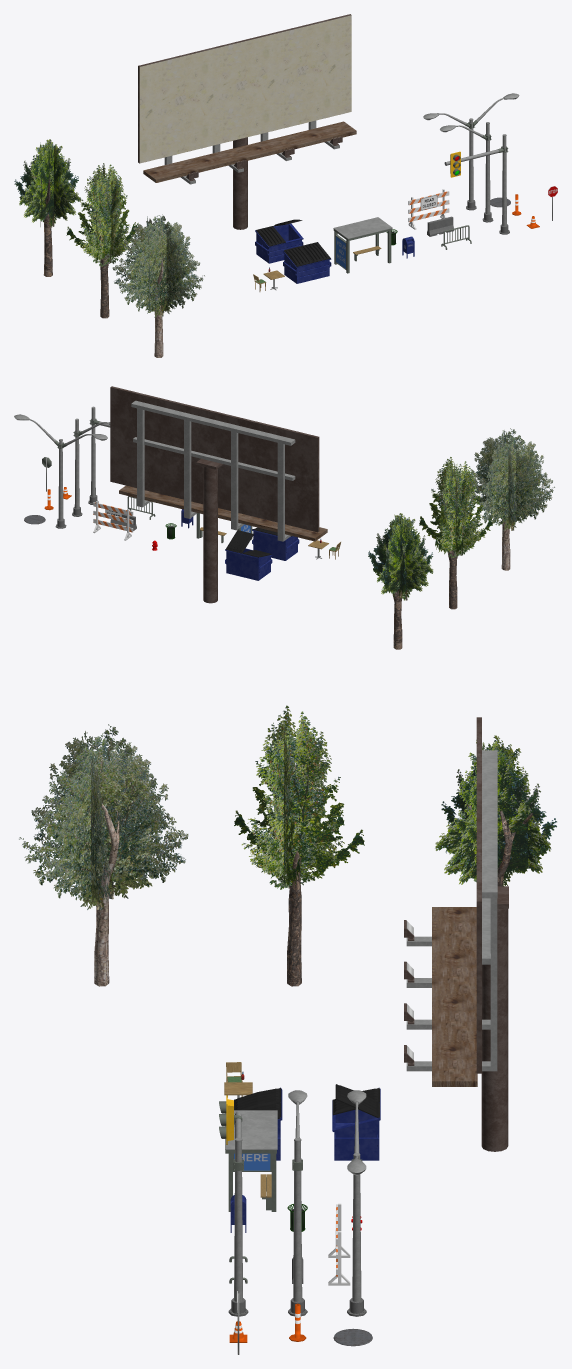
The model's file is LP_Objects_Pack_Objects.fbx.
3 views of the same model, one above another, from view 1: azimuth 30°, elevation 25°; view 2: azimuth 150°, elevation 25°; view 3: azimuth 270°, elevation 25° (orthographic). The views are drawn at different scales.
Parts seen in each view (by area): view 1: BillBoard_A, Tree_C, Tree_B, Tree_A, BusStop_A, Dumpster_A, StopLight_A, Dumpster_A_Openable, StreetLight_A_Double, RoadCloseBarrier_A, StreetLight_A_Single; view 2: BillBoard_A, Tree_C, Tree_B, Tree_A, Dumpster_A_Openable, Dumpster_A, StreetLight_A_Double, RoadCloseBarrier_A, StreetLight_A_Single, StopLight_A, Dumpster_A.Lid_Right; view 3: BillBoard_A, Tree_C, Tree_B, Tree_A, BusStop_A, StopLight_A, Dumpster_A_Openable, StreetLight_A_Double, StreetLight_A_Single, Dumpster_A.
Boxes of the visible parts, x1=… form: BillBoard_A: x1=138, y1=14, x2=356, y2=229; Tree_C: x1=112, y1=214, x2=204, y2=357; Tree_B: x1=66, y1=163, x2=138, y2=318; Tree_A: x1=14, y1=139, x2=80, y2=276; BusStop_A: x1=333, y1=217, x2=392, y2=273; Dumpster_A: x1=283, y1=242, x2=331, y2=283; StopLight_A: x1=444, y1=134, x2=509, y2=234; Dumpster_A_Openable: x1=255, y1=223, x2=303, y2=263; StreetLight_A_Double: x1=423, y1=93, x2=519, y2=210; RoadCloseBarrier_A: x1=408, y1=189, x2=449, y2=229; StreetLight_A_Single: x1=440, y1=122, x2=493, y2=222; BillBoard_A: x1=110, y1=386, x2=327, y2=603; Tree_C: x1=469, y1=428, x2=554, y2=570; Tree_B: x1=419, y1=457, x2=492, y2=609; Tree_A: x1=368, y1=513, x2=433, y2=649; Dumpster_A_Openable: x1=225, y1=548, x2=272, y2=580; Dumpster_A: x1=252, y1=527, x2=299, y2=560; StreetLight_A_Double: x1=14, y1=414, x2=107, y2=528; RoadCloseBarrier_A: x1=93, y1=501, x2=133, y2=540; StreetLight_A_Single: x1=72, y1=418, x2=110, y2=516; StopLight_A: x1=88, y1=406, x2=110, y2=504; Dumpster_A.Lid_Right: x1=225, y1=530, x2=253, y2=553; BillBoard_A: x1=404, y1=717, x2=508, y2=1151; Tree_C: x1=19, y1=724, x2=188, y2=986; Tree_B: x1=234, y1=705, x2=364, y2=986; Tree_A: x1=435, y1=735, x2=556, y2=886; BusStop_A: x1=225, y1=1110, x2=277, y2=1211; StopLight_A: x1=219, y1=1095, x2=248, y2=1316; Dumpster_A_Openable: x1=332, y1=1087, x2=380, y2=1160; StreetLight_A_Double: x1=347, y1=1090, x2=366, y2=1316; StreetLight_A_Single: x1=288, y1=1090, x2=307, y2=1316; Dumpster_A: x1=234, y1=1087, x2=282, y2=1160.
Bounding box in the file's own units: 50.06 × 19.06 × 27.59.
